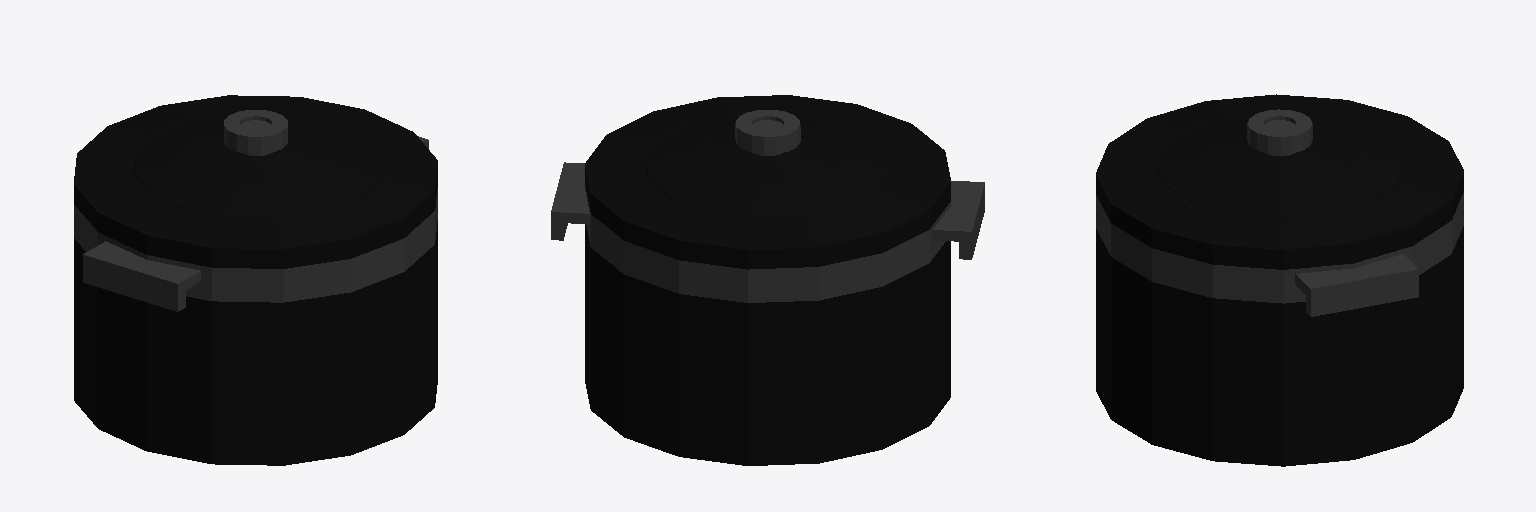
The model's file is pot.obj.
3 views of the same model, side by side, from view 1: azimuth 30°, elevation 25°; view 2: azimuth 150°, elevation 25°; view 3: azimuth 270°, elevation 25° (orthographic).
Visible parts, largest first — view 1: pot; view 2: pot; view 3: pot.
Boxes of the visible parts, x1,y1,x2,y2 form: pot: [74, 95, 437, 465]; pot: [551, 95, 984, 465]; pot: [1096, 94, 1463, 466].
Bounding box in the file's own units: 41.86 × 28.15 × 35.43.